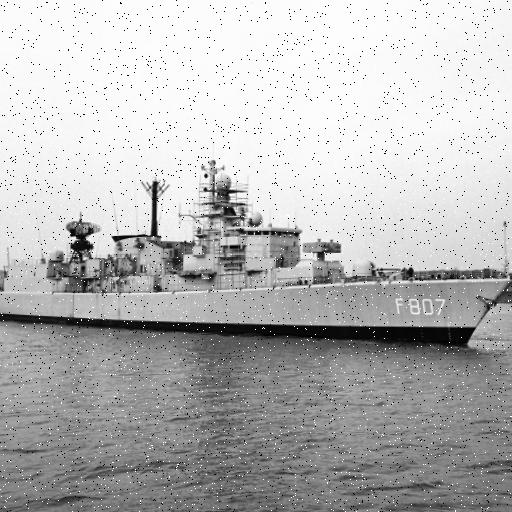Fragata: (1, 143, 512, 357)
